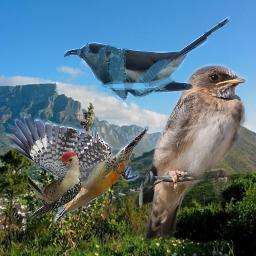Cuckoo: (64, 16, 235, 101)
Swallow: (132, 63, 248, 245)
Woodpecker: (2, 115, 149, 224), (28, 151, 81, 222)
